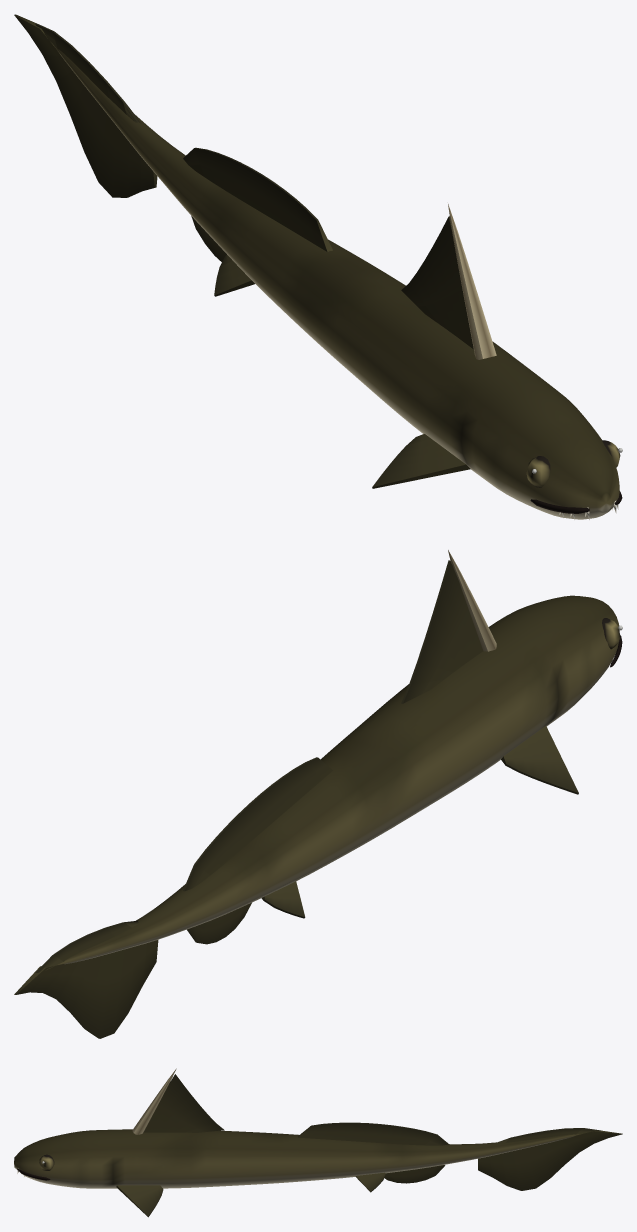
The model's file is Antarctilamna.fbx.
The picture shows the model from 3 angles, top to bottom: view 1: azimuth 30°, elevation 25°; view 2: azimuth 150°, elevation 25°; view 3: azimuth 270°, elevation 25°; orthographic projection. The views are drawn at different scales.
Parts seen in each view (by area): view 1: Antarctilamna; view 2: Antarctilamna; view 3: Antarctilamna.
Part boxes in pixels (x1=…): Antarctilamna: x1=14, y1=14, x2=622, y2=519; Antarctilamna: x1=14, y1=550, x2=622, y2=1038; Antarctilamna: x1=14, y1=1068, x2=622, y2=1217.
Bounding box in the file's own units: 0.3396 × 0.378 × 1.68.
